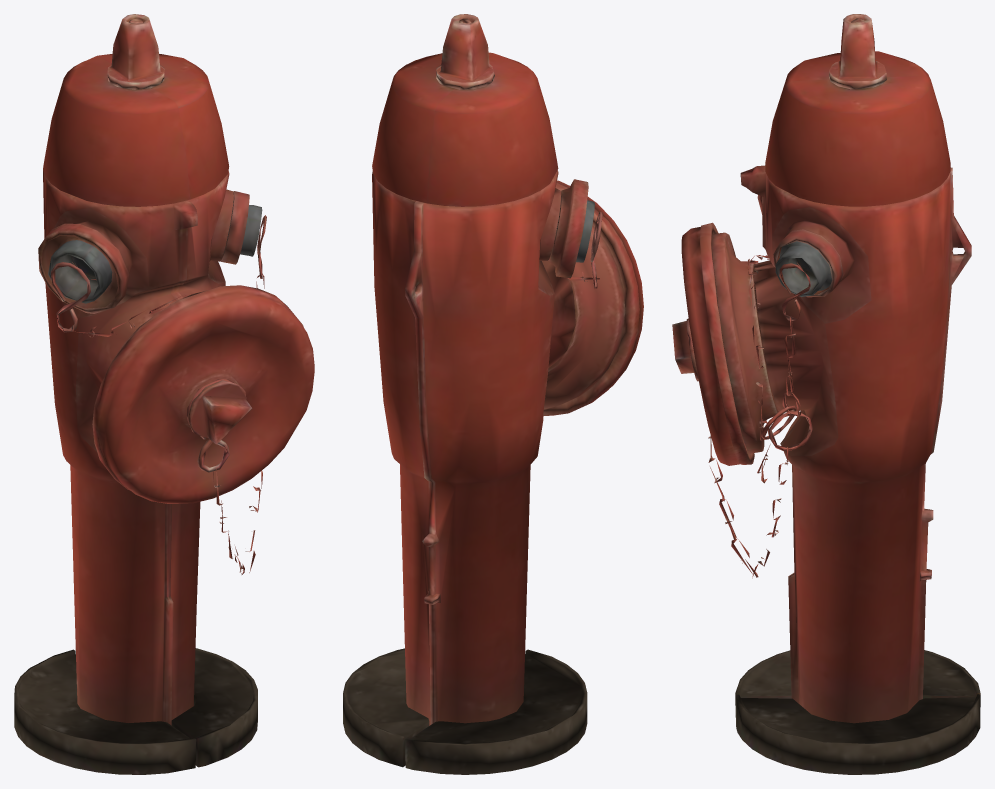
Rendered from borne_incendie_lod0.glb.
3 views of the same model, side by side, from view 1: azimuth 30°, elevation 25°; view 2: azimuth 150°, elevation 25°; view 3: azimuth 270°, elevation 25° (orthographic).
Parts seen in each view (by area): view 1: fire_hydrant; view 2: fire_hydrant; view 3: fire_hydrant.
Boxes of the visible parts, left/top/right/bottom form: fire_hydrant: left=14, top=14, right=314, bottom=774; fire_hydrant: left=343, top=14, right=643, bottom=774; fire_hydrant: left=672, top=14, right=980, bottom=774.
Bounding box in the file's own units: 0.2564 × 0.7994 × 0.3173.
1 material, 1 textured.
